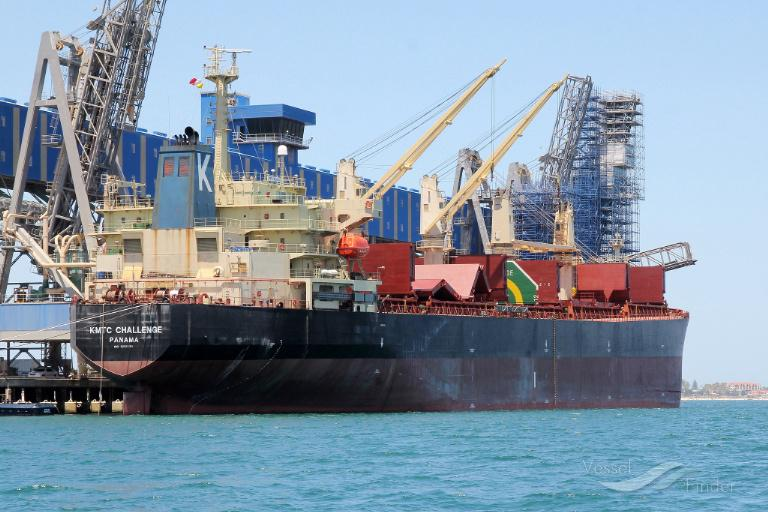OCR: (76, 321, 172, 353)
